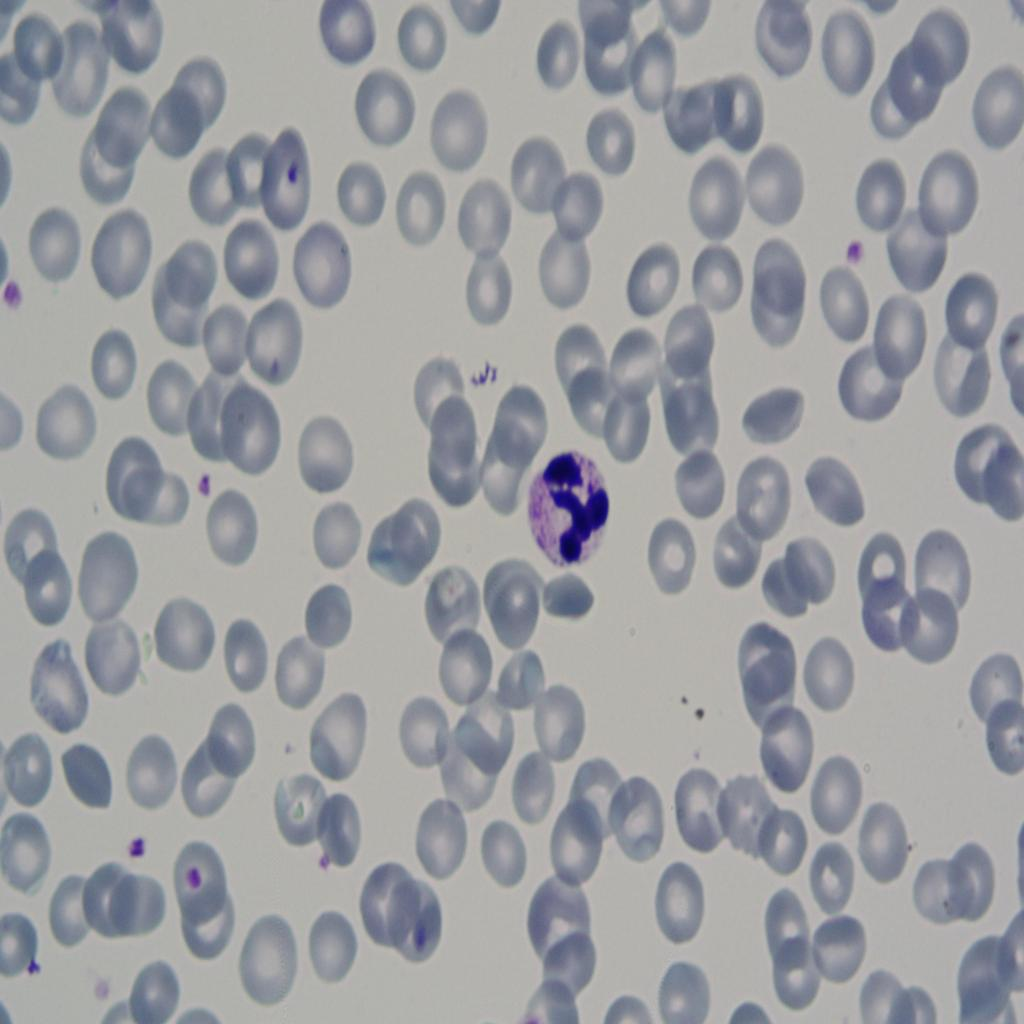Platelet: (125, 826, 162, 894), (188, 456, 224, 524), (0, 281, 38, 334), (834, 219, 868, 265), (178, 850, 208, 902), (274, 148, 307, 189)
